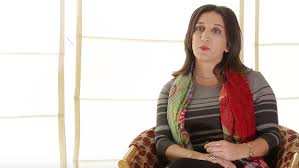middle_eastern_Female: (188, 9, 232, 65)
